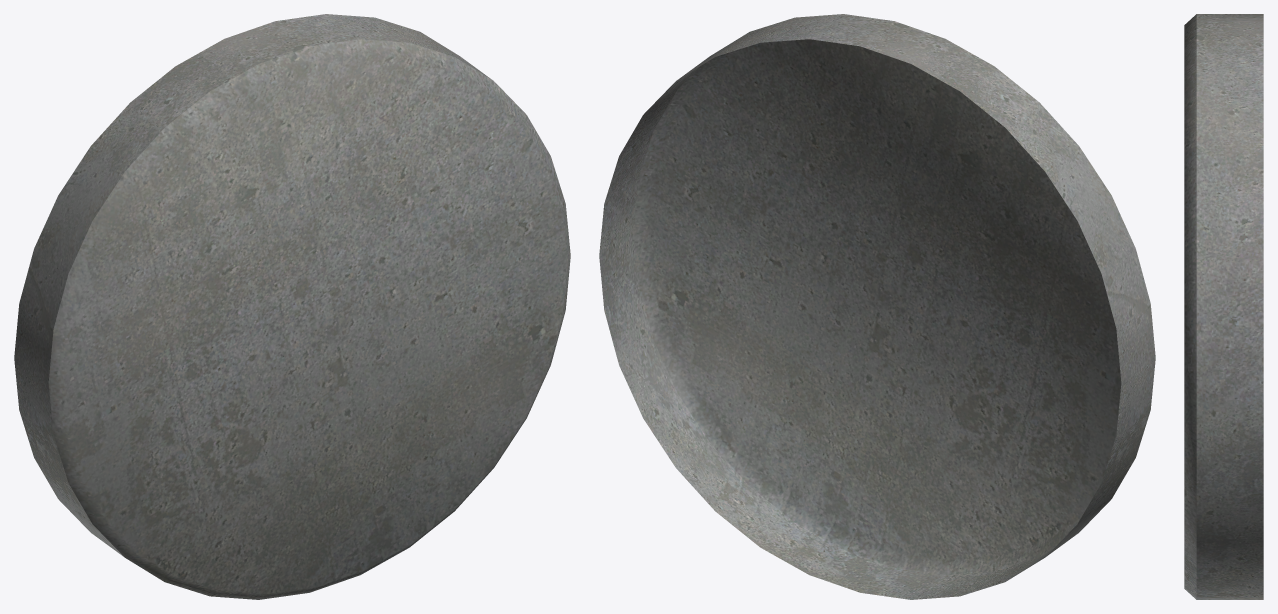
Rendered from nt_2020_paver_circle_01_LOD0.obj.
3 renders of one model, left to right at view 1: azimuth 30°, elevation 25°; view 2: azimuth 150°, elevation 25°; view 3: azimuth 270°, elevation 25°, orthographic. The views are drawn at different scales.
Parts seen in each view (by area): view 1: jun_art_concrete_base02; view 2: jun_art_concrete_base02; view 3: jun_art_concrete_base02.
Boxes of the visible parts, left/top/right/bottom form: jun_art_concrete_base02: left=14, top=14, right=570, bottom=599; jun_art_concrete_base02: left=599, top=14, right=1155, bottom=599; jun_art_concrete_base02: left=1184, top=14, right=1263, bottom=599.
Size of the model in its own units: 115 by 115 by 15.57.
